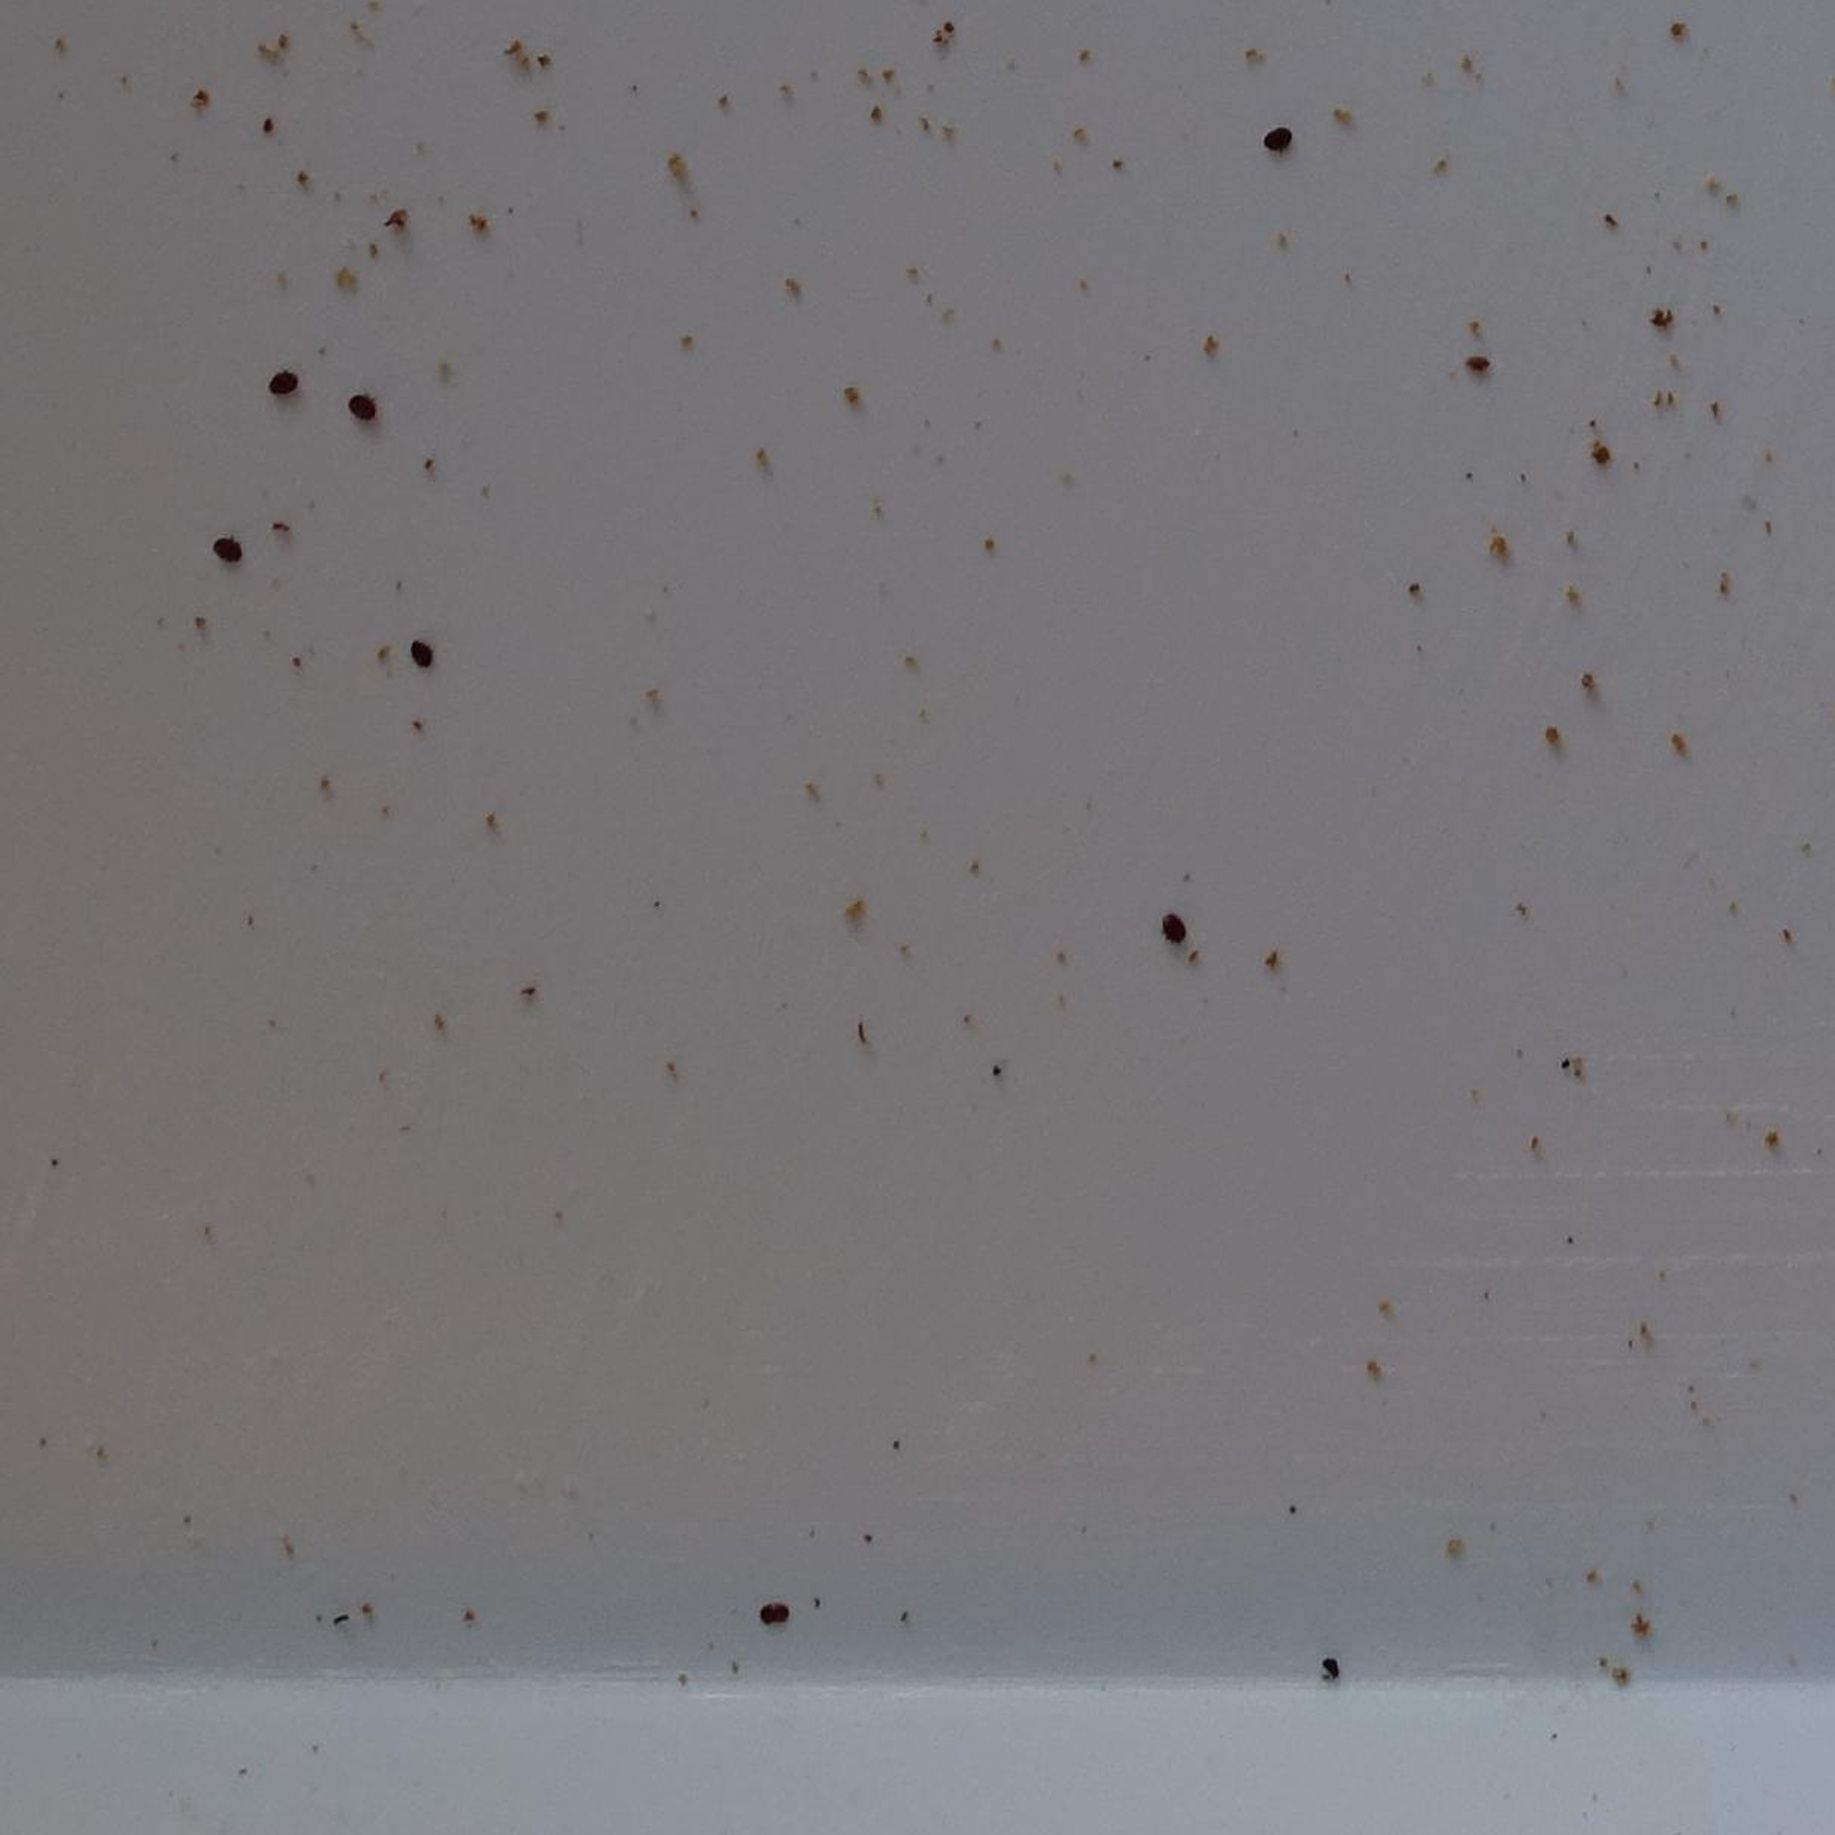Varroa: (266, 365, 296, 397), (1161, 917, 1190, 946), (1264, 124, 1291, 153), (760, 1600, 786, 1627), (350, 388, 375, 415), (408, 640, 434, 665), (217, 534, 240, 560)
